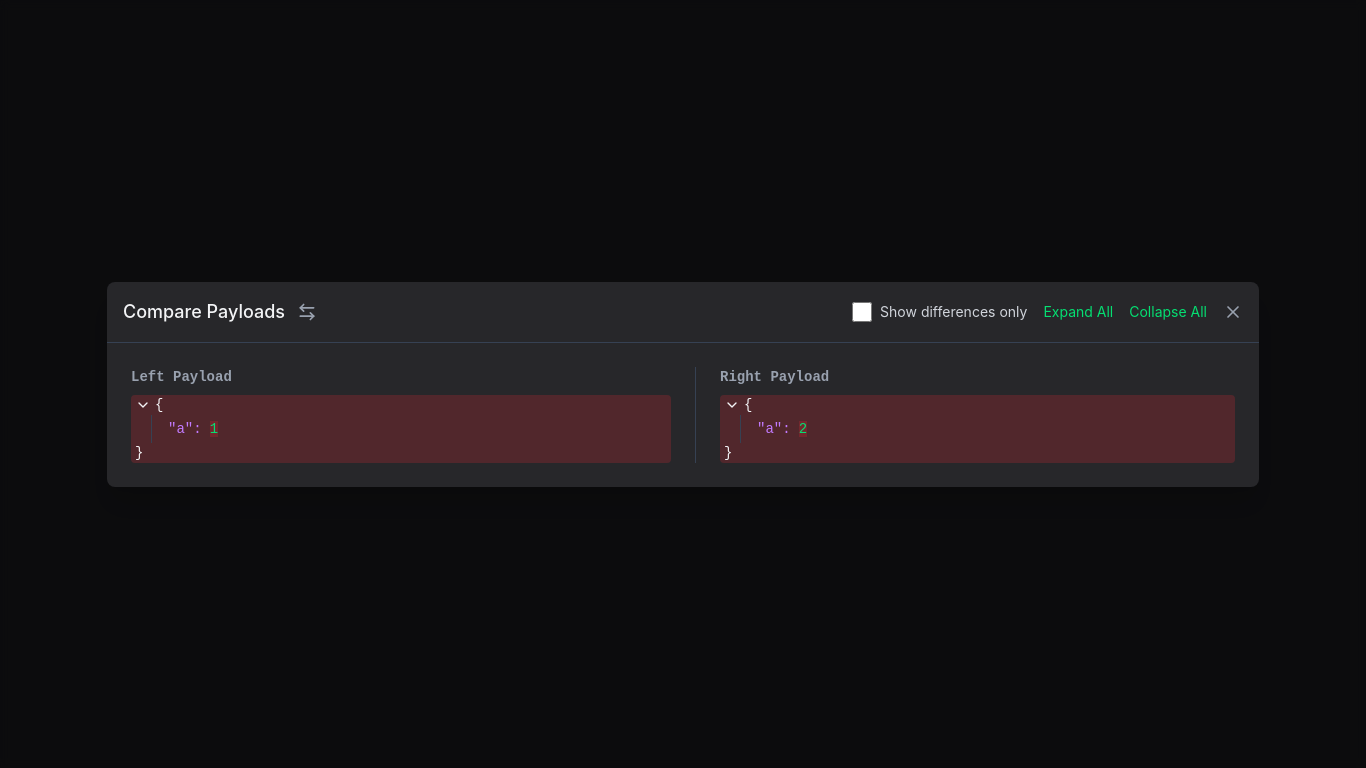
PayloadCompareModal › toggles a single path via handleToggle
Check: the text "\"a\":" is shown 2 times, box left=168, top=420, right=202, bottom=436; left=757, top=420, right=791, bottom=436
Click the element with class "cursor-pointer" below "Left Payload". click: [149, 404]
box: left=135, top=396, right=163, bottom=412
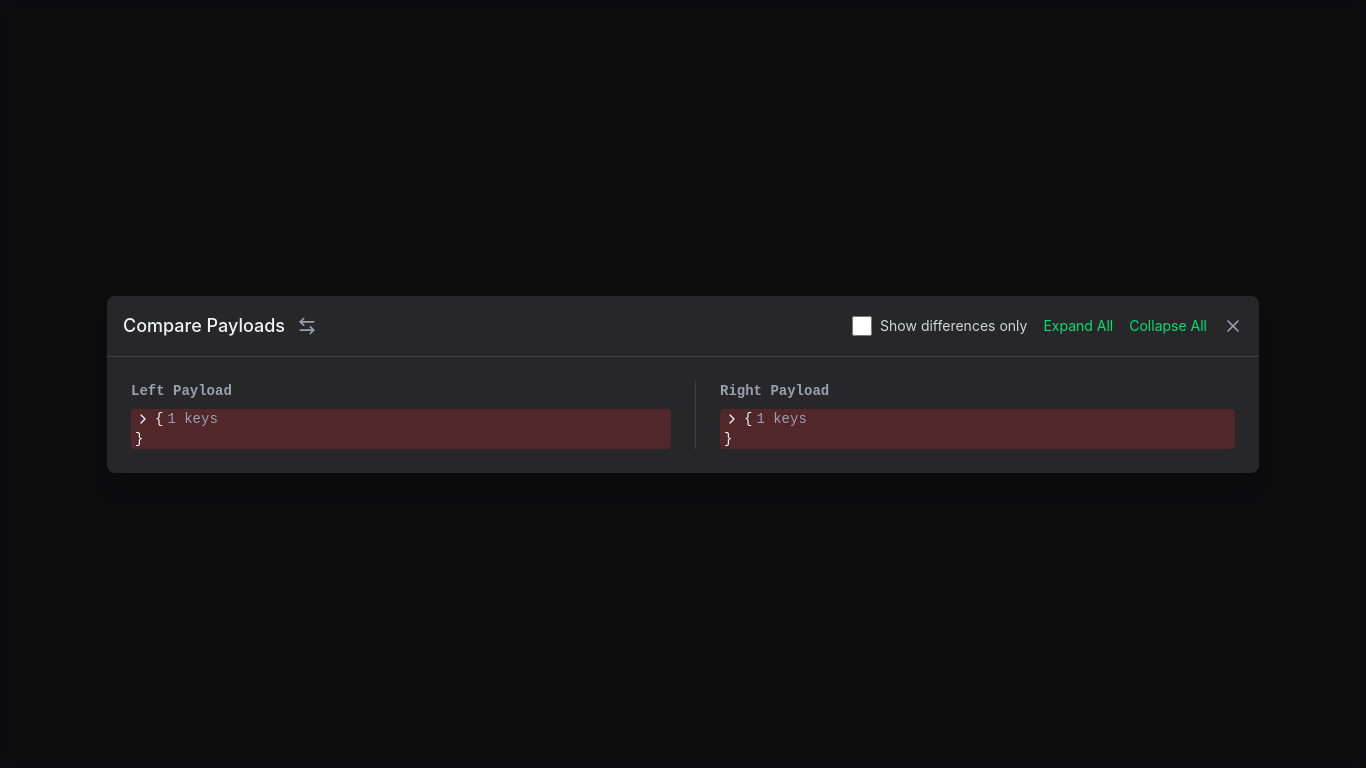
Check: the text "\"a\":" is gone
